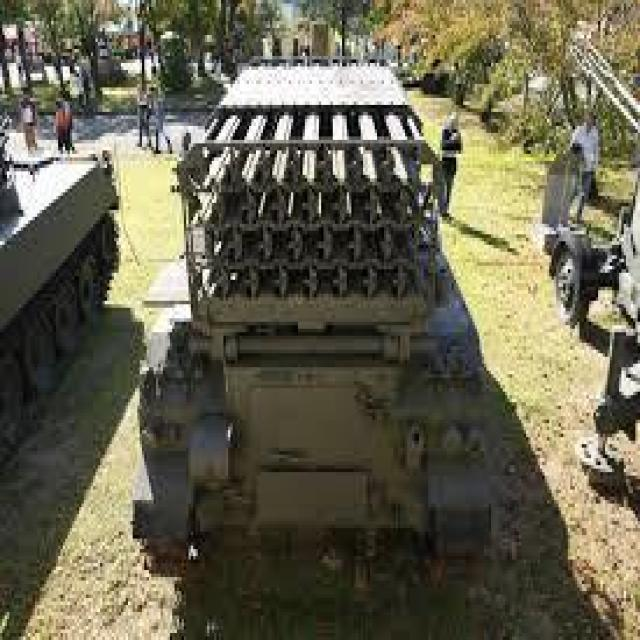Tanks: (142, 42, 493, 577), (2, 133, 119, 409)
